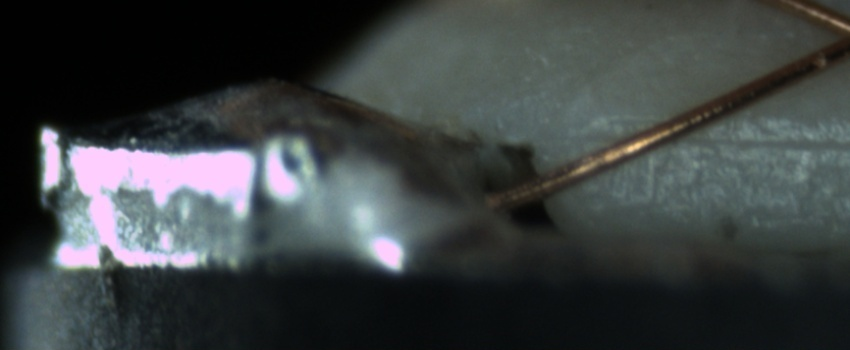CL: (802, 3, 850, 67)
DL: (609, 106, 846, 172)
